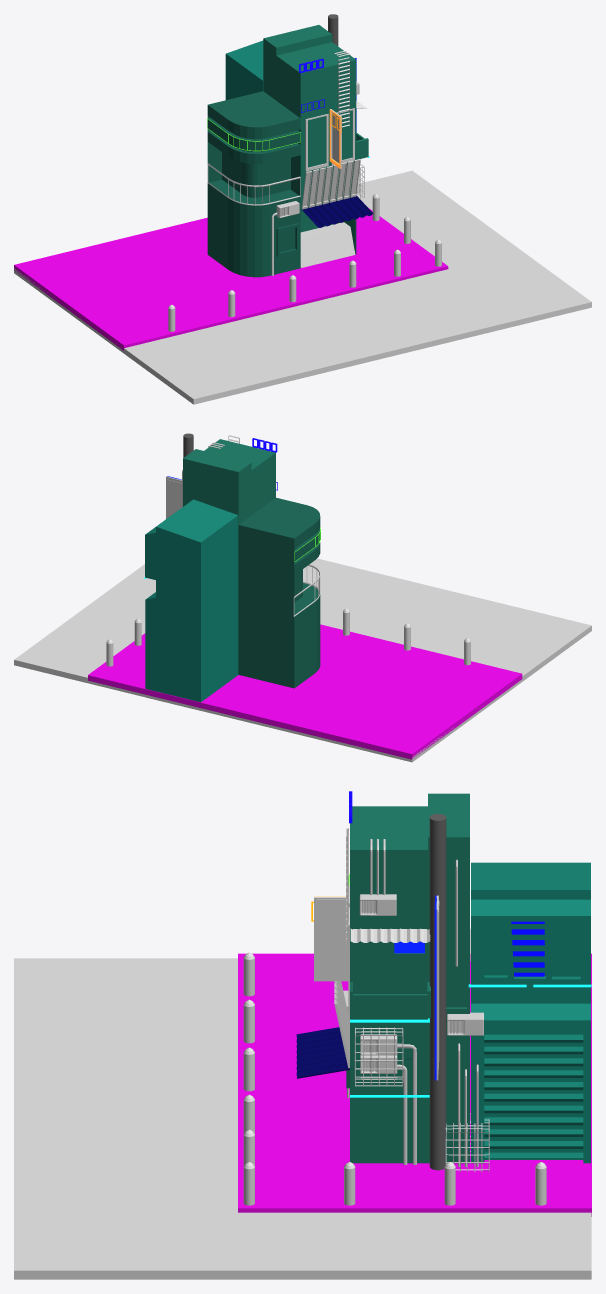
The model's file is cyber.glb.
The picture shows the model from 3 angles, top to bottom: view 1: azimuth 30°, elevation 25°; view 2: azimuth 150°, elevation 25°; view 3: azimuth 270°, elevation 25°; orthographic projection. The views are drawn at different scales.
Visible parts, largest first — view 1: Cube, Cube.004, Cube.002, Cube.001, Cube.003, Cube.013, Plane, Cube.014, Plane.011, Plane.014; view 2: Cube, Cube.004, Cube.003, Cube.002, Cube.001, Plane.012; view 3: Cube, Cube.003, Cube.004, Cube.001, Cylinder.038, Plane.011, Plane, Cube.011, Plane.013, Cube.010, Cube.012, Cube.015 (+3 smaller).
Boxes of the visible parts, <box> form: Cube: <box>14,170,591,404</box>; Cube.004: <box>14,208,448,350</box>; Cube.002: <box>207,91,300,277</box>; Cube.001: <box>263,25,368,254</box>; Cube.003: <box>225,40,263,99</box>; Cube.013: <box>300,222,355,267</box>; Plane: <box>301,196,373,227</box>; Cube.014: <box>207,163,300,205</box>; Plane.011: <box>330,109,341,168</box>; Plane.014: <box>338,57,349,127</box>; Cube: <box>14,558,591,762</box>; Cube.004: <box>88,624,522,759</box>; Cube.003: <box>145,499,238,702</box>; Cube.002: <box>238,497,320,688</box>; Cube.001: <box>183,439,275,674</box>; Plane.012: <box>166,476,181,518</box>; Cube: <box>14,958,591,1279</box>; Cube.003: <box>471,862,590,1163</box>; Cube.004: <box>238,953,591,1216</box>; Cube.001: <box>350,793,469,1163</box>; Cylinder.038: <box>429,814,446,1170</box>; Plane.011: <box>314,897,348,981</box>; Plane: <box>296,1027,412,1078</box>; Cube.011: <box>354,1027,403,1086</box>; Plane.013: <box>350,928,430,942</box>; Cube.010: <box>445,1113,489,1172</box>; Cube.012: <box>447,1012,483,1035</box>; Cube.015: <box>359,894,396,915</box>.
Bounding box in the file's own units: 12.32 × 6.68 × 9.63.
